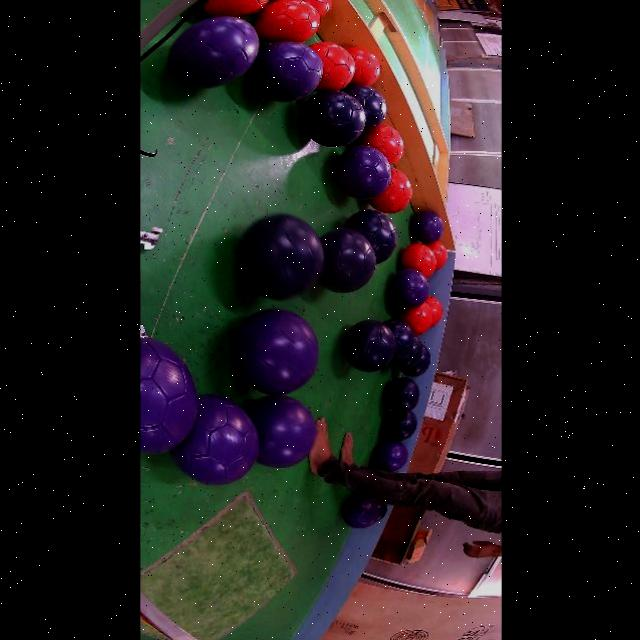B: (238, 215, 323, 300), (298, 91, 365, 147), (318, 228, 375, 293), (341, 320, 395, 373), (344, 210, 396, 263), (341, 85, 386, 131), (382, 320, 414, 365), (382, 378, 419, 413), (340, 497, 379, 529), (381, 410, 416, 441), (392, 336, 423, 369), (399, 347, 430, 378), (376, 502, 386, 521)
P: (169, 394, 257, 485), (138, 327, 196, 453), (233, 308, 317, 395), (166, 17, 258, 88), (247, 395, 314, 468), (245, 42, 321, 102), (332, 145, 390, 199), (389, 268, 428, 310), (410, 210, 443, 244), (372, 441, 406, 472)
R: (253, 0, 320, 43), (308, 42, 355, 91), (354, 124, 403, 165), (367, 169, 411, 214), (345, 47, 380, 86), (399, 243, 435, 278), (396, 302, 431, 335), (201, 0, 268, 17), (426, 241, 447, 271), (425, 296, 442, 326)
